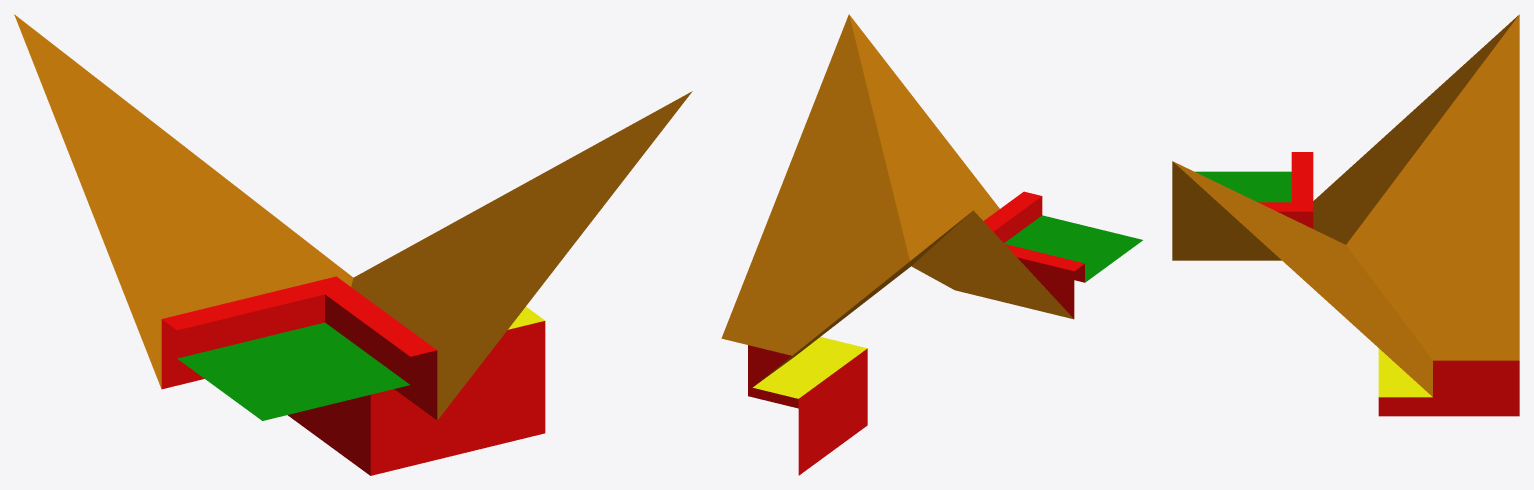
3 views of the same model, side by side, from view 1: azimuth 30°, elevation 25°; view 2: azimuth 150°, elevation 25°; view 3: azimuth 270°, elevation 25° (orthographic). The views are drawn at different scales.
Visible parts, largest first — view 1: None_E_S_E_E_S_W_E_E_None; view 2: None_E_S_E_E_S_W_E_E_None; view 3: None_E_S_E_E_S_W_E_E_None.
Boxes of the visible parts, x1,y1,x2,y2 form: None_E_S_E_E_S_W_E_E_None: (14, 14, 692, 475); None_E_S_E_E_S_W_E_E_None: (721, 14, 1142, 475); None_E_S_E_E_S_W_E_E_None: (1172, 14, 1519, 416).
Size of the model in its own units: 100 by 100 by 100.
